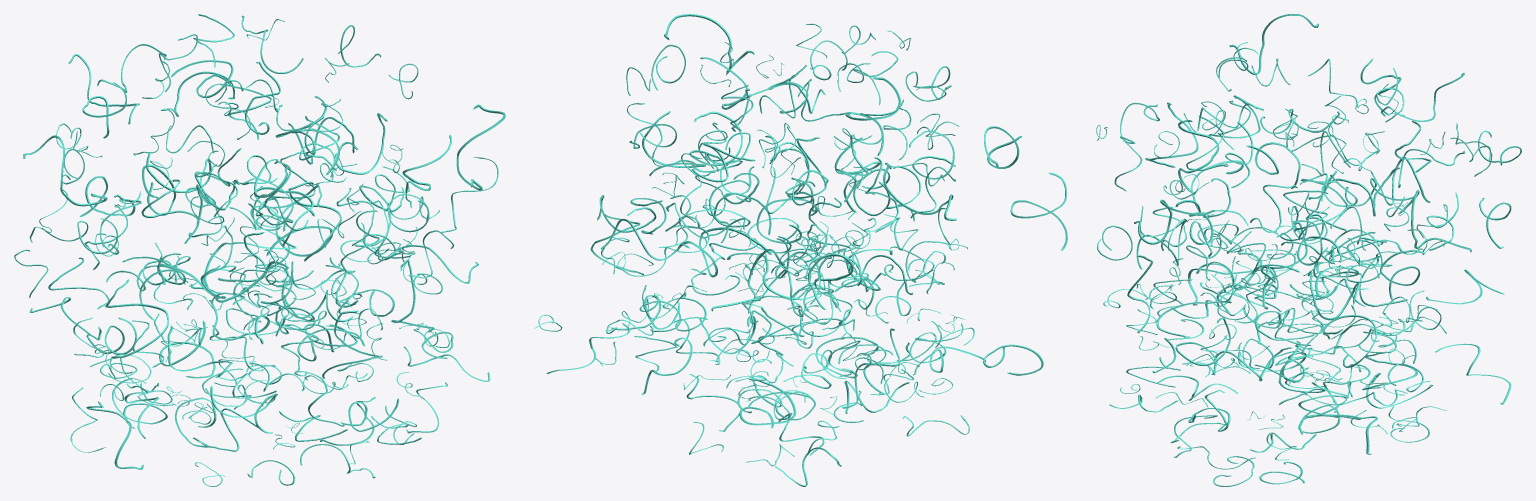
File: ribbons-sejun.glb
3 views of the same model, side by side, from view 1: azimuth 30°, elevation 25°; view 2: azimuth 150°, elevation 25°; view 3: azimuth 270°, elevation 25° (orthographic). The views are drawn at different scales.
Parts seen in each view (by area): view 1: SPAGHETTI_1, SPAGHETTI; view 2: SPAGHETTI_1, SPAGHETTI; view 3: SPAGHETTI_1, SPAGHETTI.
Boxes of the visible parts, x1,y1,x2,y2 form: SPAGHETTI_1: [14, 14, 505, 378]; SPAGHETTI: [29, 159, 490, 486]; SPAGHETTI_1: [590, 14, 1067, 408]; SPAGHETTI: [534, 160, 1043, 486]; SPAGHETTI_1: [1096, 14, 1521, 367]; SPAGHETTI: [1103, 213, 1511, 486].
Bounding box in the file's own units: 48.45 × 44.85 × 44.95.
